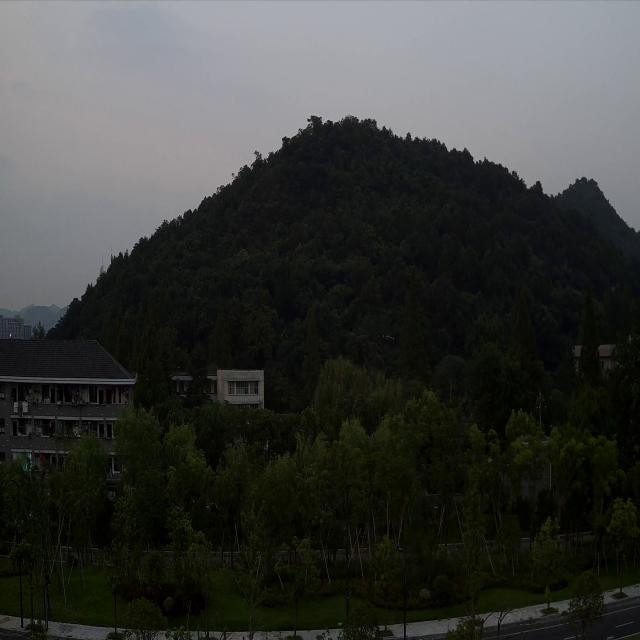UAV: (382, 333, 396, 340)
